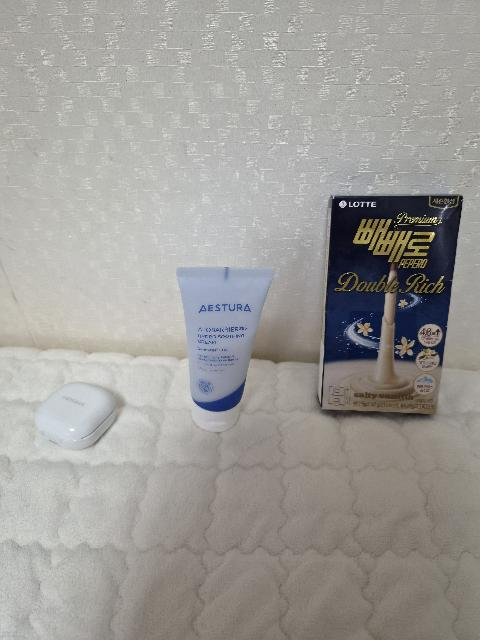earphone_case: (35, 381, 116, 450)
handcream: (176, 266, 275, 432)
pepero: (317, 194, 463, 415)
